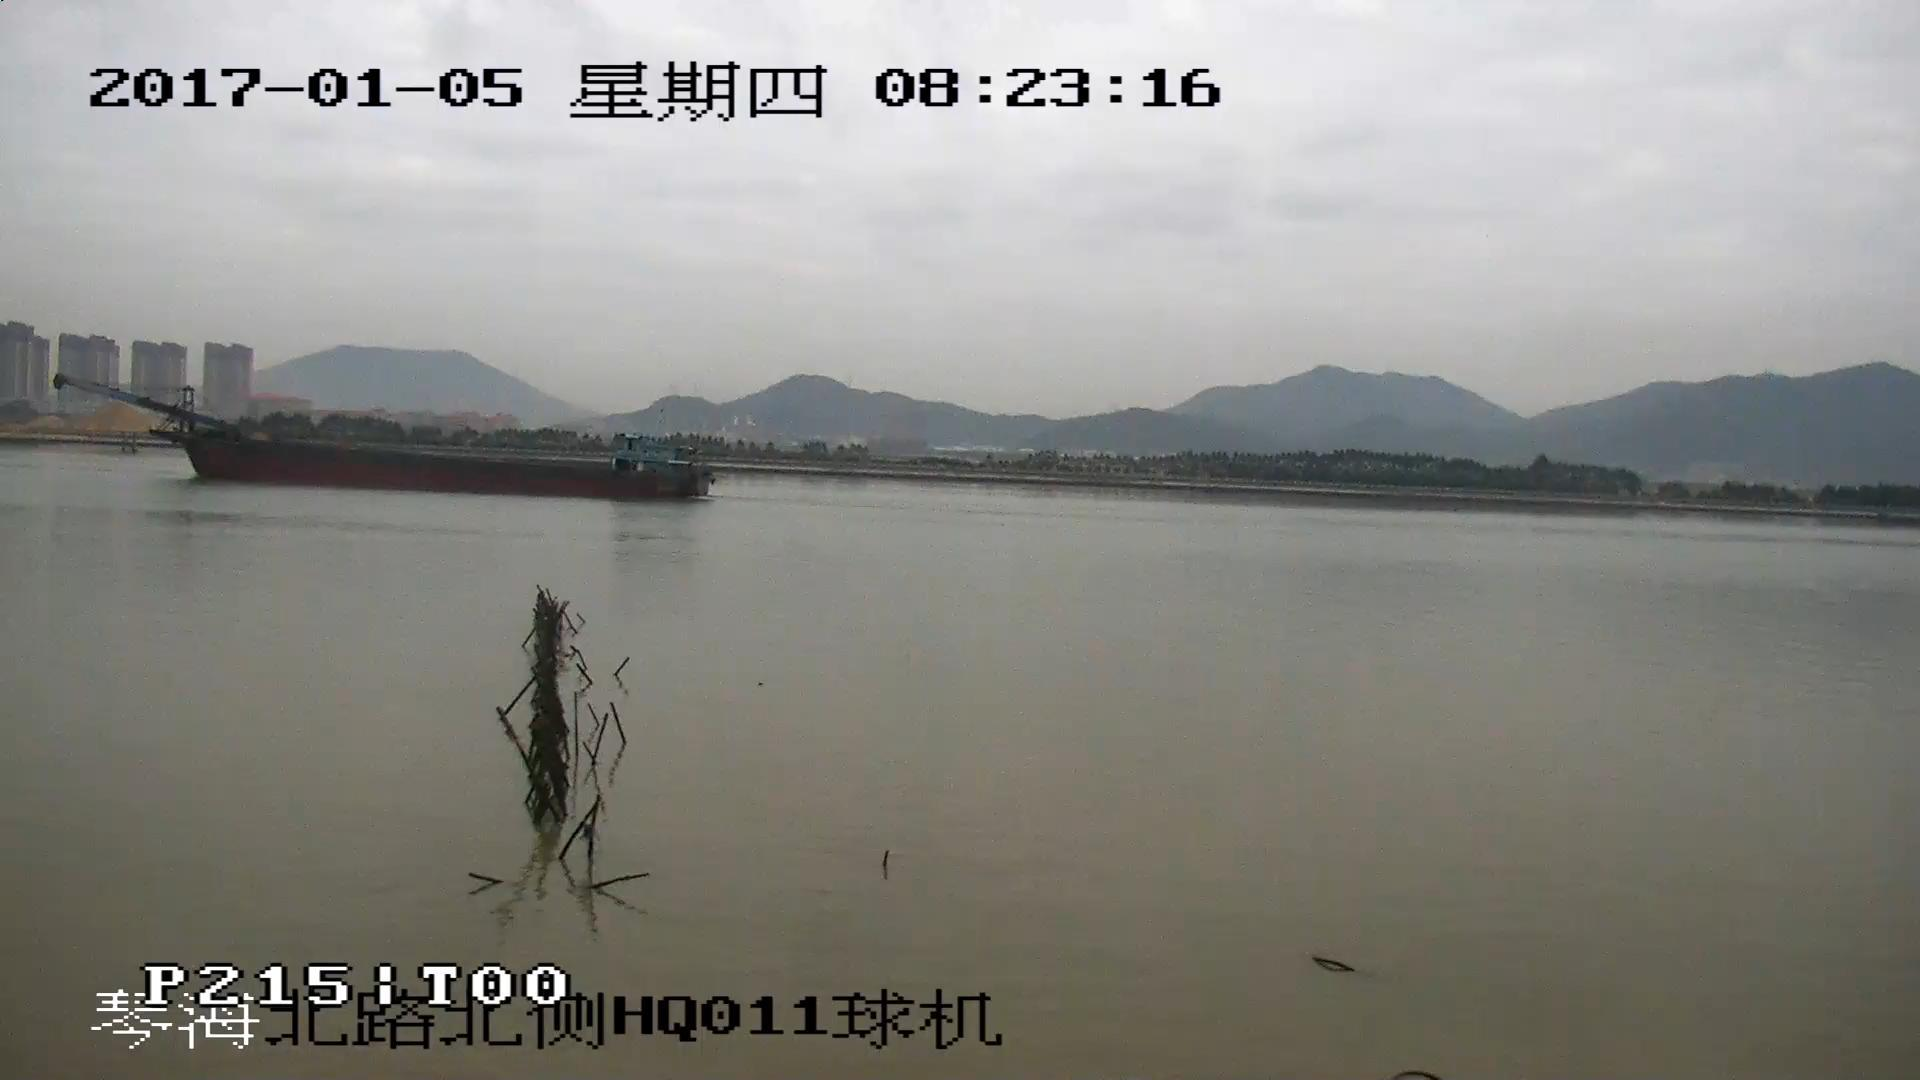Ship: (63, 377, 713, 498)
